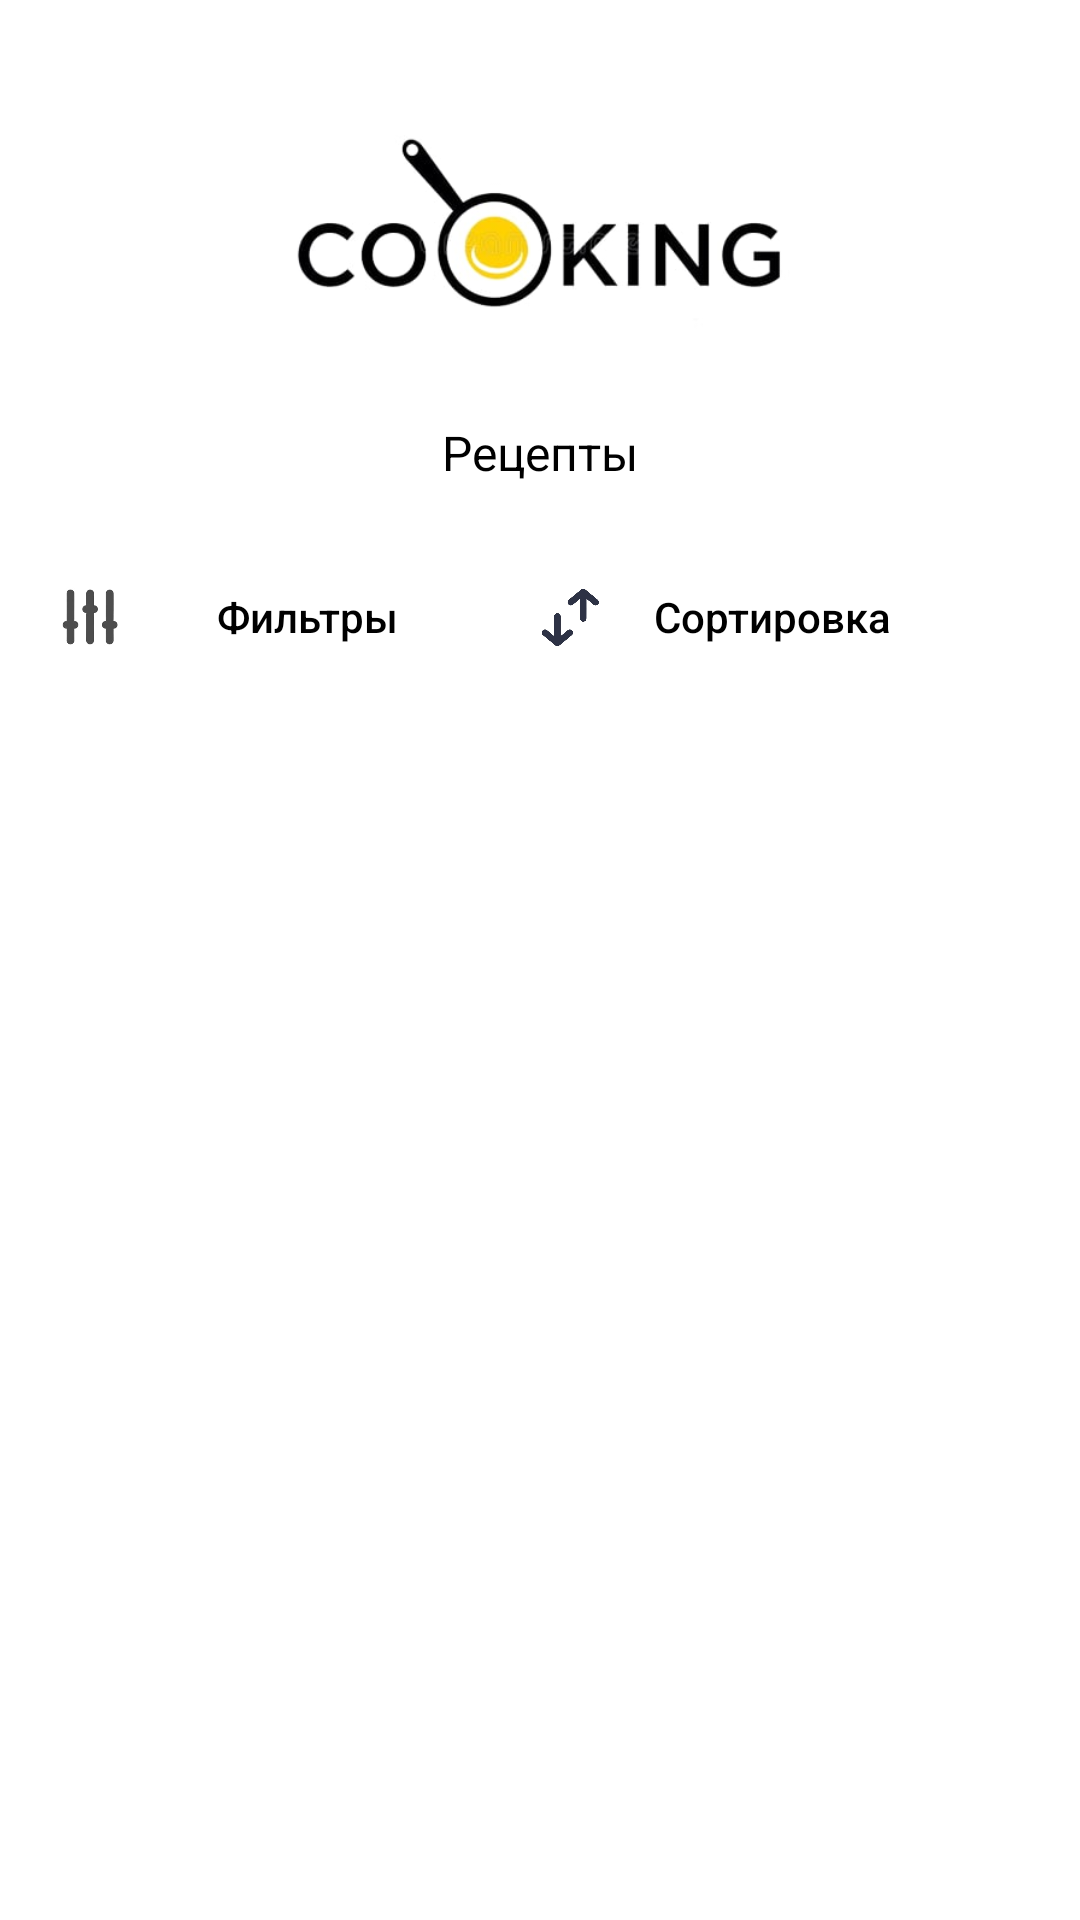

Locate icon controls on the screen. Image size 1080×1920, boxes as (x1, y1, x2, y2).
filtres: (62, 589, 118, 645)
sorting: (542, 589, 599, 646)
